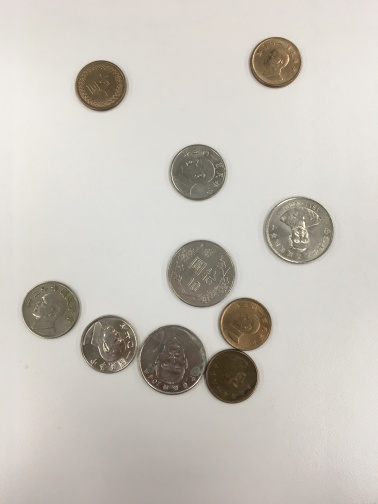1 dollar: (241, 33, 311, 100), (67, 55, 137, 117), (198, 347, 269, 408), (212, 293, 281, 352)
10 dollar: (256, 187, 348, 273), (155, 229, 237, 309), (136, 319, 210, 406)
5 dollar: (163, 139, 237, 205), (15, 275, 83, 346), (77, 309, 140, 379)
